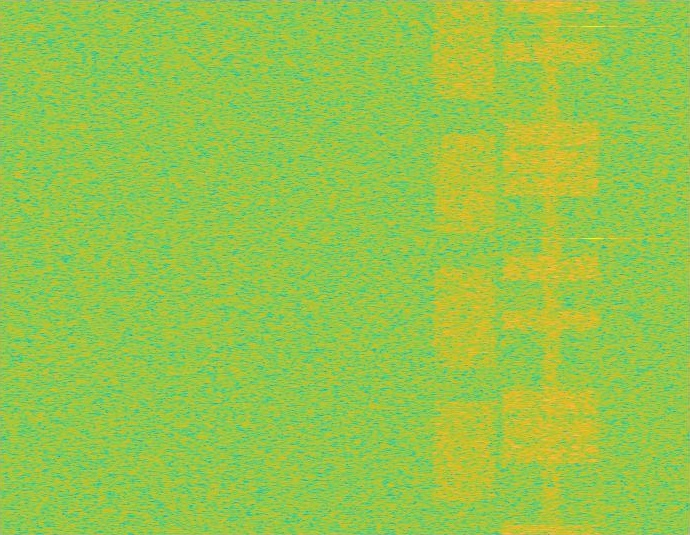5G: (430, 0, 499, 534)
DSSS: (540, 0, 563, 534)
LTE: (500, 0, 603, 534)
Radar: (586, 0, 600, 534)
